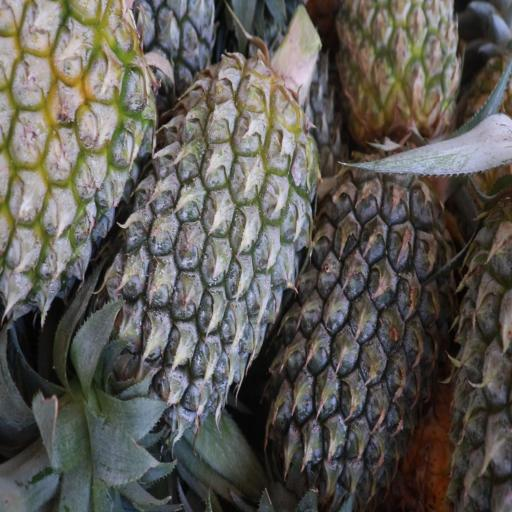------------------------------: (0, 0, 153, 305), (339, 0, 462, 137)
